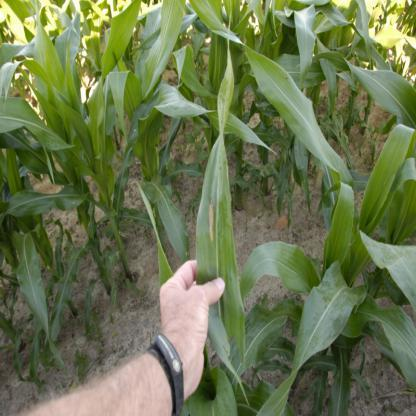Corn leaf blight: (197, 34, 239, 283)
